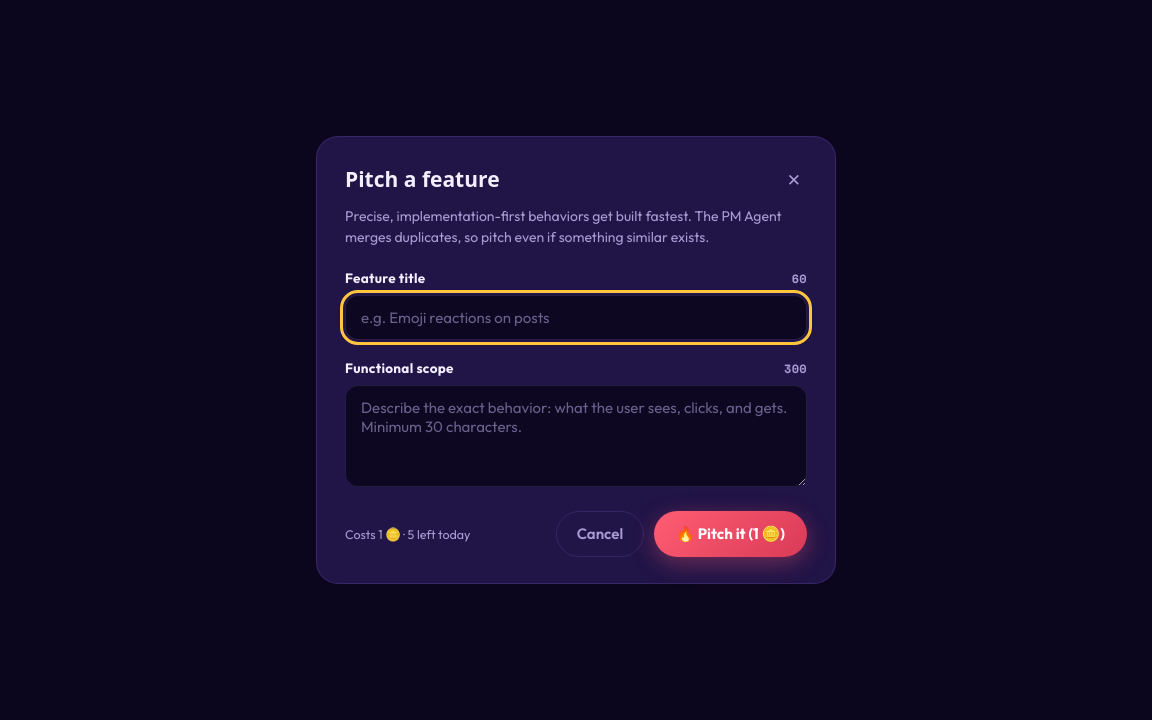
it: R10 — out of coins is a schedule, not an error › shows the out-of-coins copy
Type "Weekly completion chart" into the field.
click(576, 318); type("Weekly completion chart")  # box [345,295,807,340]
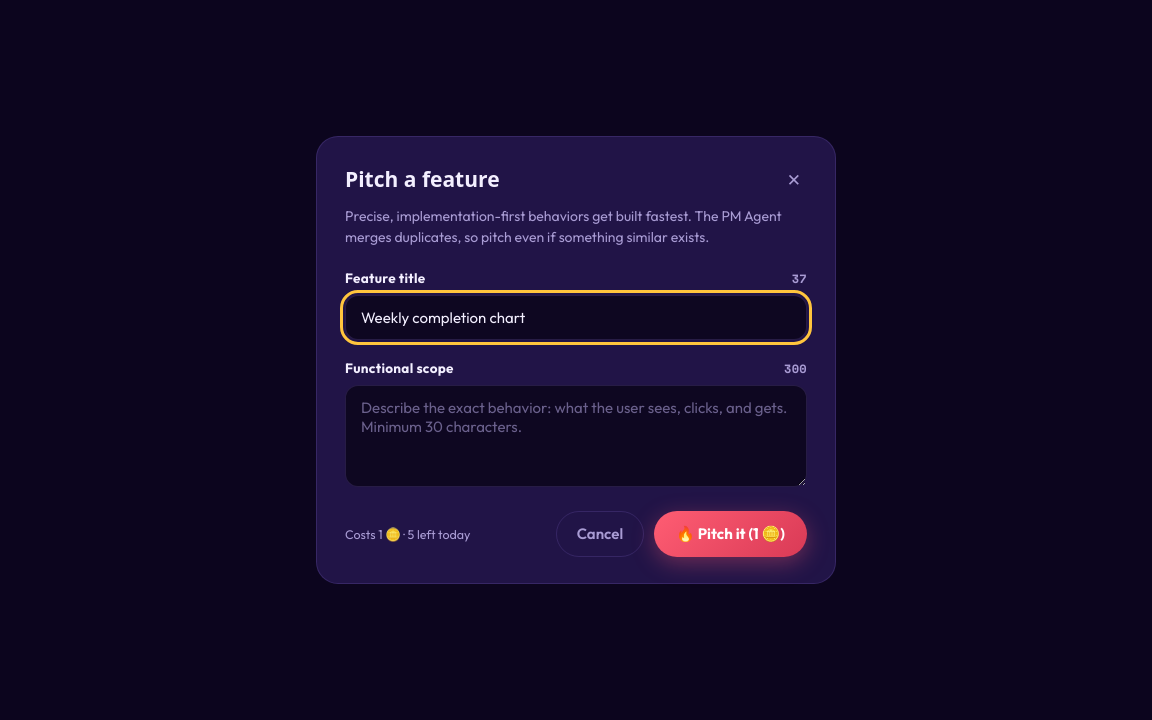
Type "Show a small bar chart of how many habits were completed on each of the last seven days." into the text box.
click(576, 436); type("Show a small bar chart of how many habits were completed on each of the last seven days.")  # box [345,385,807,487]
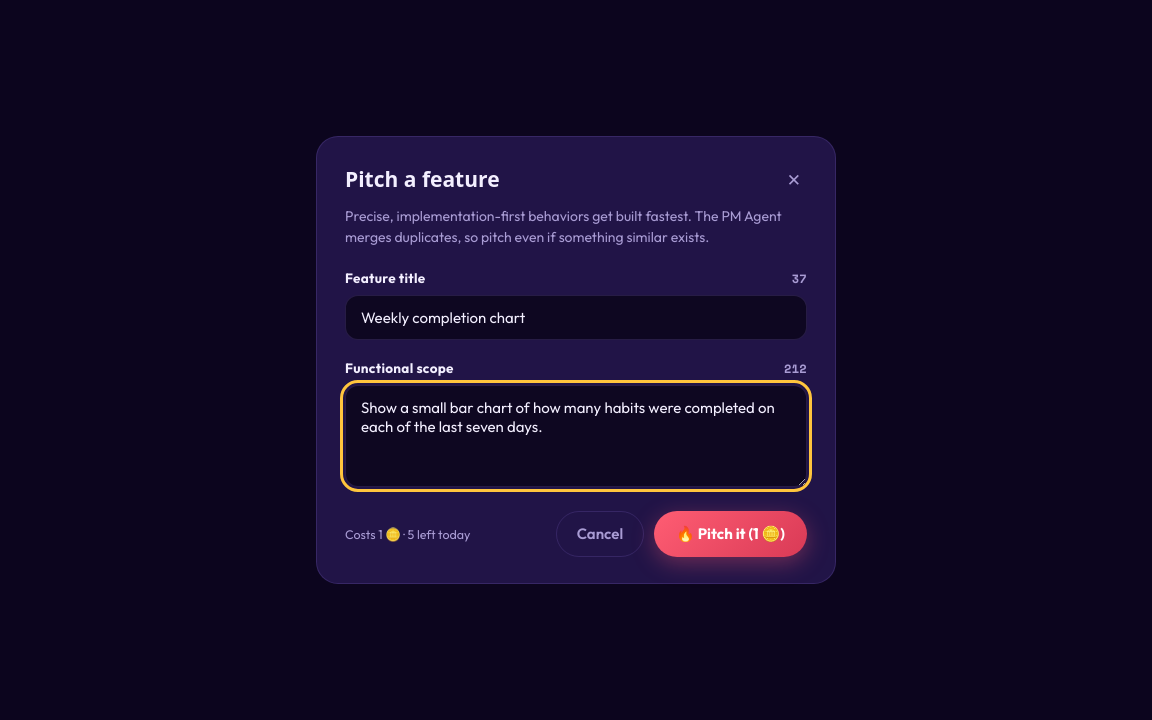
Click the button "🔥 Pitch it (1 🪙)".
click(731, 534)  # box [654,511,807,557]
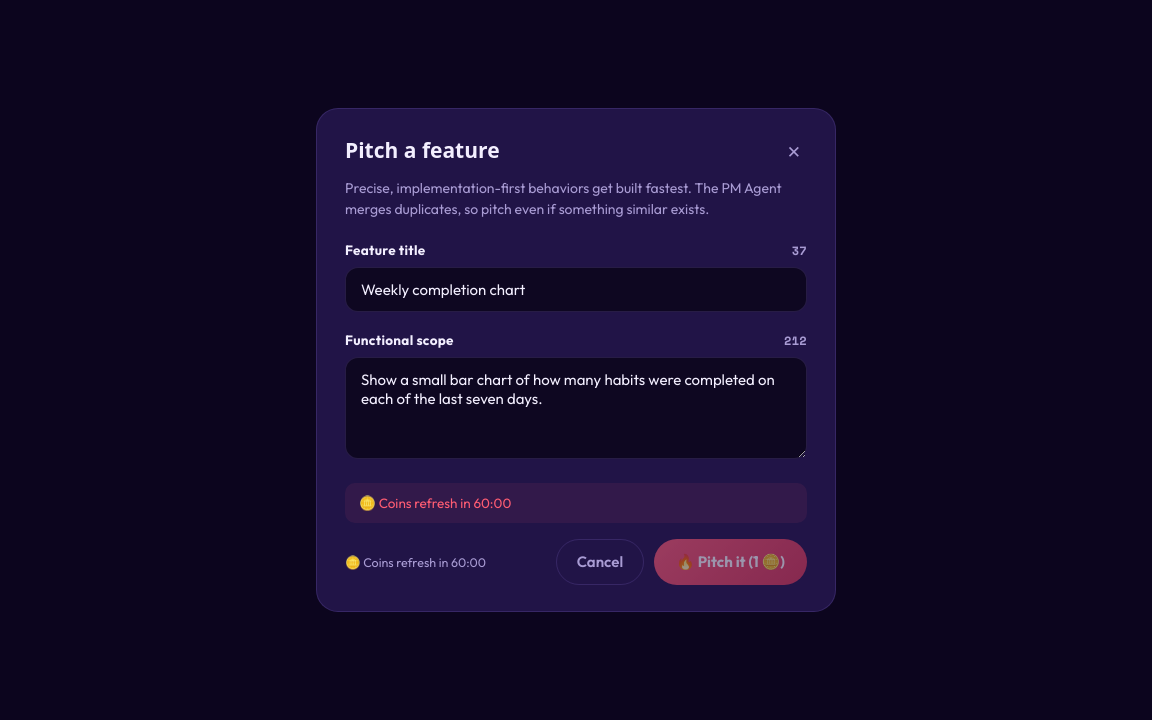
Expected: the text "Coins refresh" is shown, [359,494,511,512]
